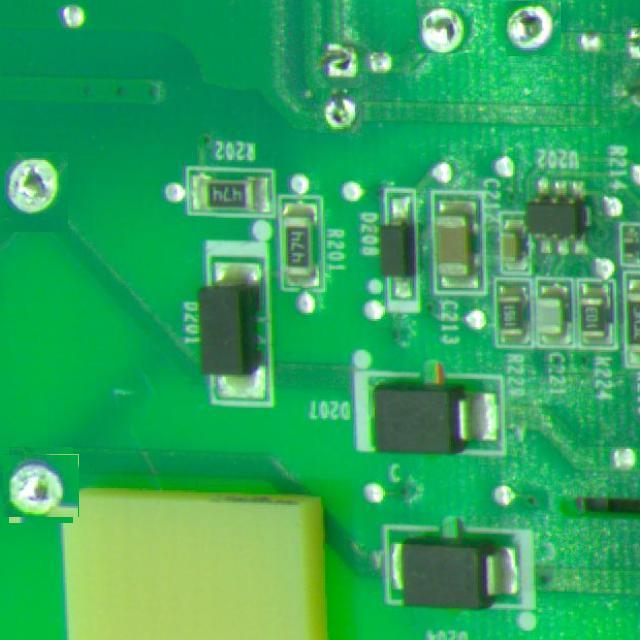lack_of_part: (1, 152, 68, 232), (7, 450, 76, 520), (416, 0, 474, 53), (506, 1, 560, 55), (314, 37, 362, 85), (317, 88, 362, 133)
